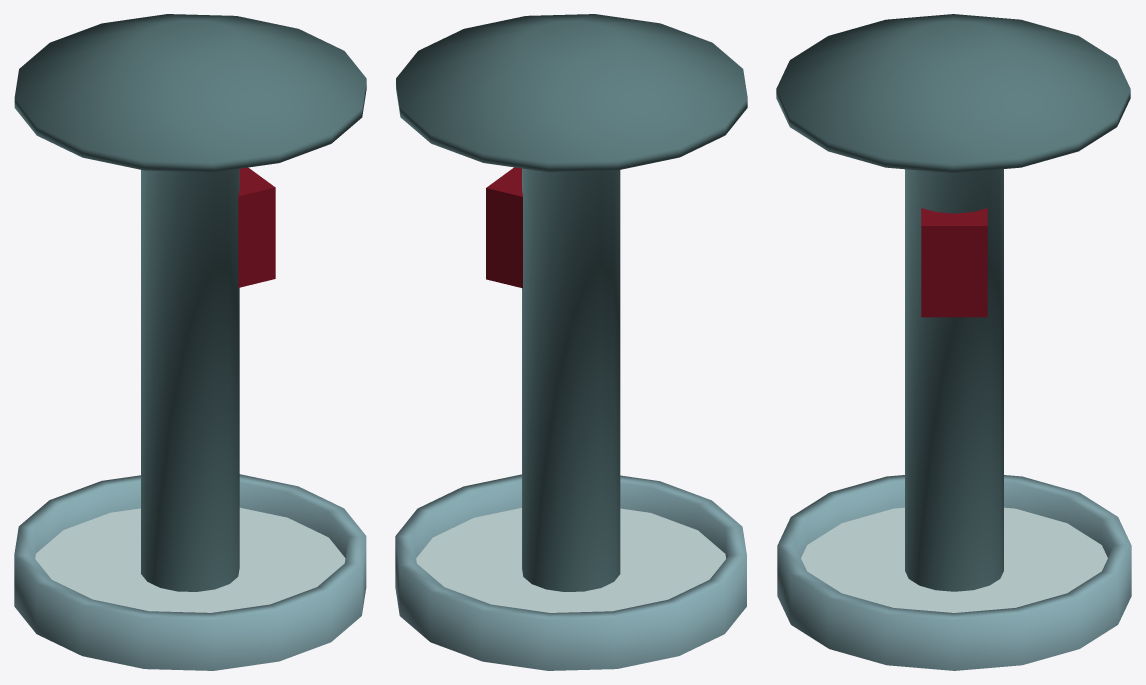
The model's file is EventLauncher.fbx.
The picture shows the model from 3 angles, left to right: view 1: azimuth 30°, elevation 25°; view 2: azimuth 150°, elevation 25°; view 3: azimuth 270°, elevation 25°; orthographic projection.
Parts seen in each view (by area): view 1: EventLauncher, EventLauncherBase, EventLauncherBtn; view 2: EventLauncher, EventLauncherBase, EventLauncherBtn; view 3: EventLauncher, EventLauncherBase, EventLauncherBtn.
Boxes of the visible parts, <box> form: EventLauncher: <box>14,14,366,591</box>; EventLauncherBase: <box>14,474,366,670</box>; EventLauncherBtn: <box>238,167,275,287</box>; EventLauncher: <box>396,14,747,591</box>; EventLauncherBase: <box>395,474,746,670</box>; EventLauncherBtn: <box>486,167,522,288</box>; EventLauncher: <box>776,14,1130,591</box>; EventLauncherBase: <box>777,475,1131,670</box>; EventLauncherBtn: <box>921,208,987,317</box>.
Size of the model in its own units: 4 by 4.01 by 6.9.
